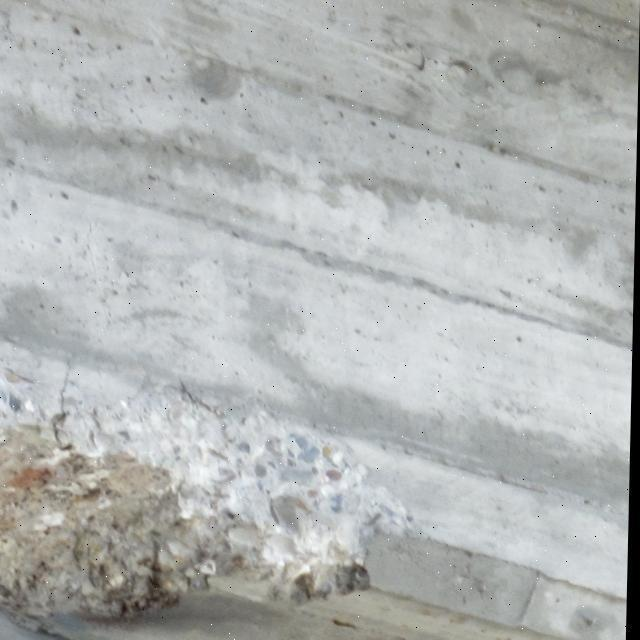D10: (2, 366, 377, 633)
